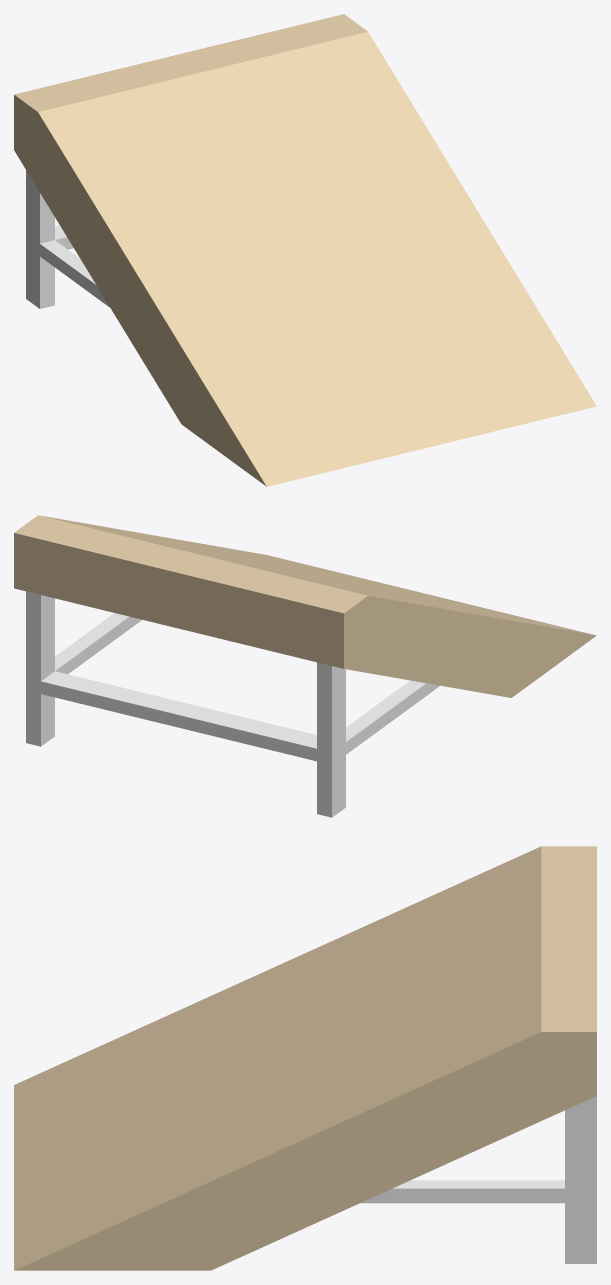
Rendered from ramp.glb.
3 views of the same model, one above another, from view 1: azimuth 30°, elevation 25°; view 2: azimuth 150°, elevation 25°; view 3: azimuth 270°, elevation 25° (orthographic). The views are drawn at different scales.
Visible parts, largest first — view 1: ramp; view 2: ramp; view 3: ramp.
Boxes of the visible parts, left/top/right/bottom form: ramp: left=14, top=14, right=596, bottom=486; ramp: left=14, top=515, right=596, bottom=817; ramp: left=14, top=846, right=596, bottom=1270.
Bounding box in the file's own units: 0.55 × 0.33 × 0.73.
